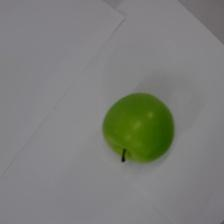green: (101, 91, 173, 164)
